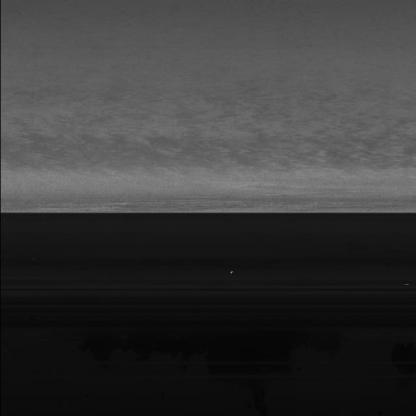silk_spot: (94, 148, 321, 184)
